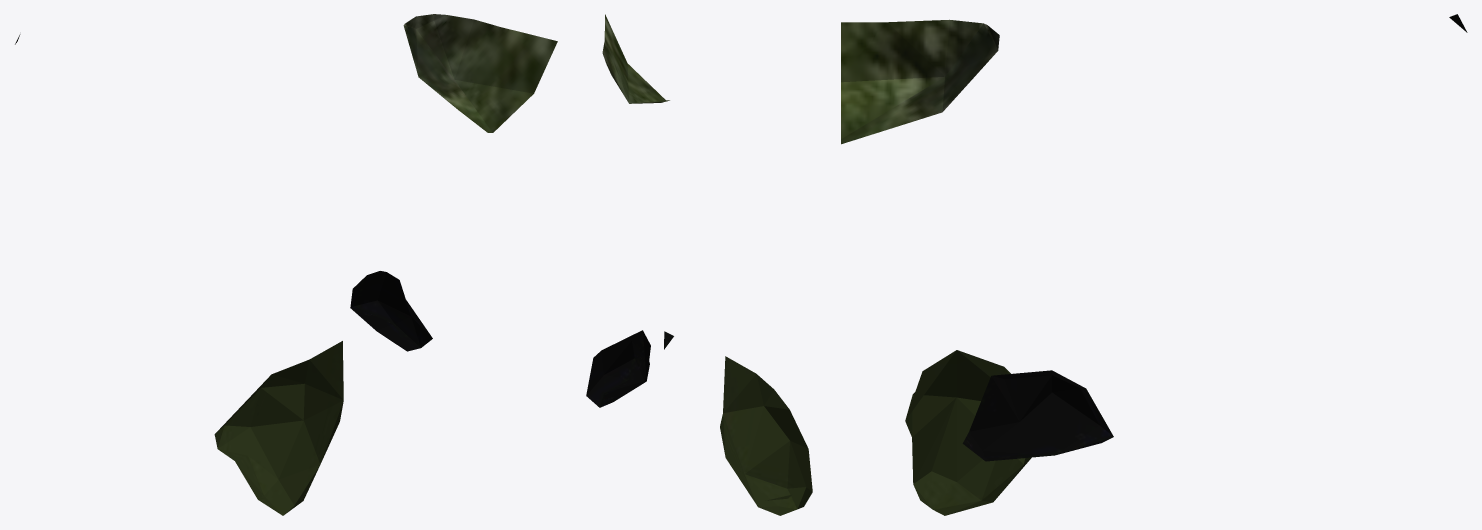
3 renders of one model, left to right at view 1: azimuth 30°, elevation 25°; view 2: azimuth 150°, elevation 25°; view 3: azimuth 270°, elevation 25°, orthographic. The views are drawn at different scales.
Size of the model in its own units: 1.5 by 2.06 by 2.03.
Materials: 1 (1 with a texture image).
